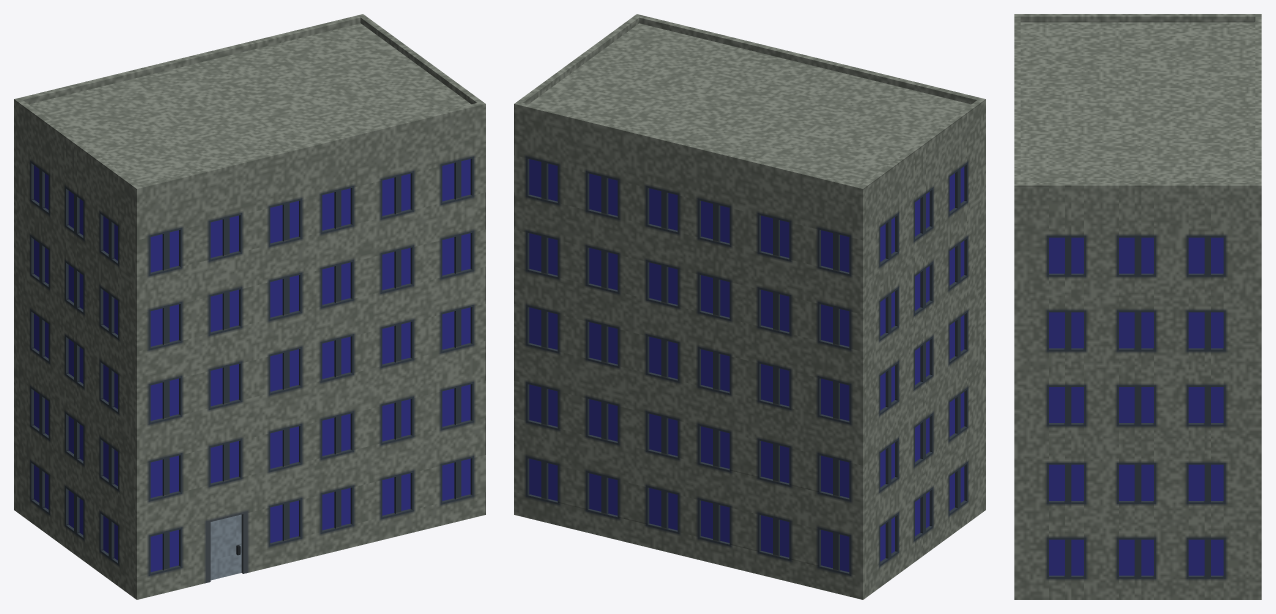
The model's file is BLOK_DZIELNIA__MED.dae.
3 renders of one model, left to right at view 1: azimuth 30°, elevation 25°; view 2: azimuth 150°, elevation 25°; view 3: azimuth 270°, elevation 25°, orthographic.
Parts seen in each view (by area): view 1: Content; view 2: Content; view 3: Content.
Boxes of the visible parts, bbox=[...] form: Content: bbox=[14, 14, 485, 599]; Content: bbox=[514, 14, 985, 599]; Content: bbox=[1014, 14, 1261, 599].
Size of the model in its own units: 128 by 144 by 78.
Materials: 1 (1 with a texture image).
